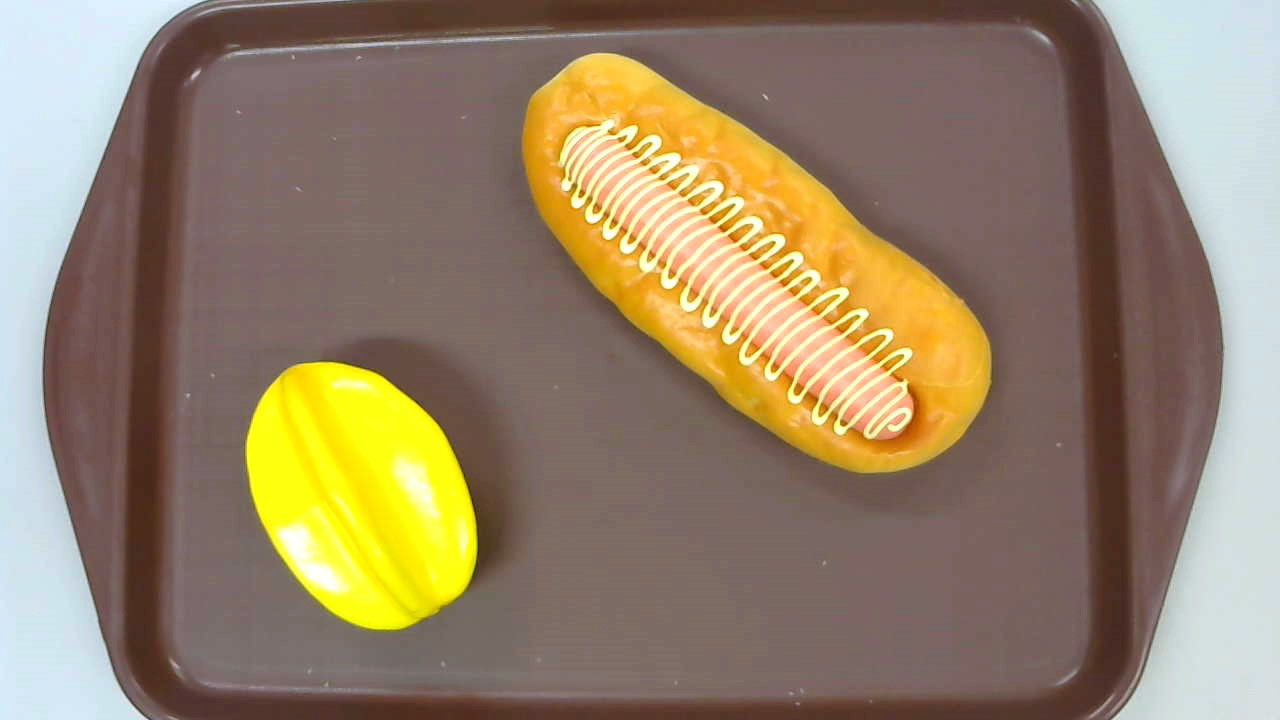hot dog: (520, 52, 993, 474)
star fruit: (244, 360, 478, 633)
